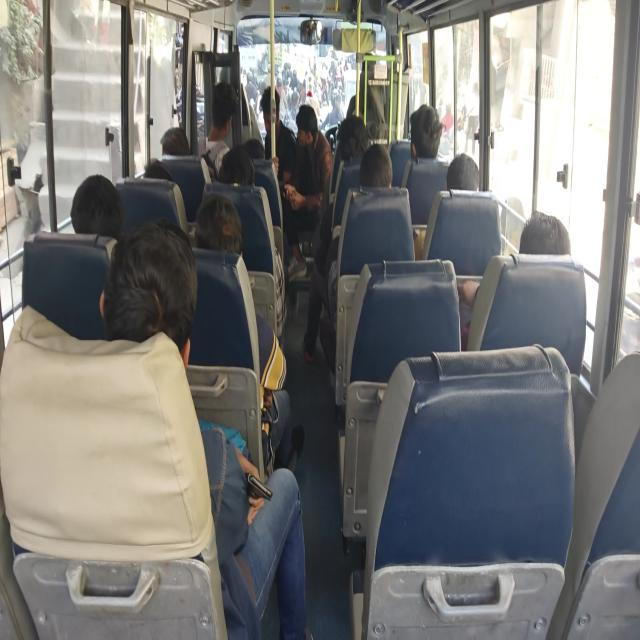person: (106, 235, 201, 352), (524, 205, 576, 278), (71, 167, 126, 231), (407, 105, 458, 172), (194, 195, 248, 256), (213, 82, 252, 133), (438, 157, 484, 196), (362, 152, 396, 196), (220, 146, 259, 182), (339, 120, 368, 162), (153, 130, 200, 152), (298, 96, 318, 142), (262, 86, 280, 132), (142, 156, 168, 186)
